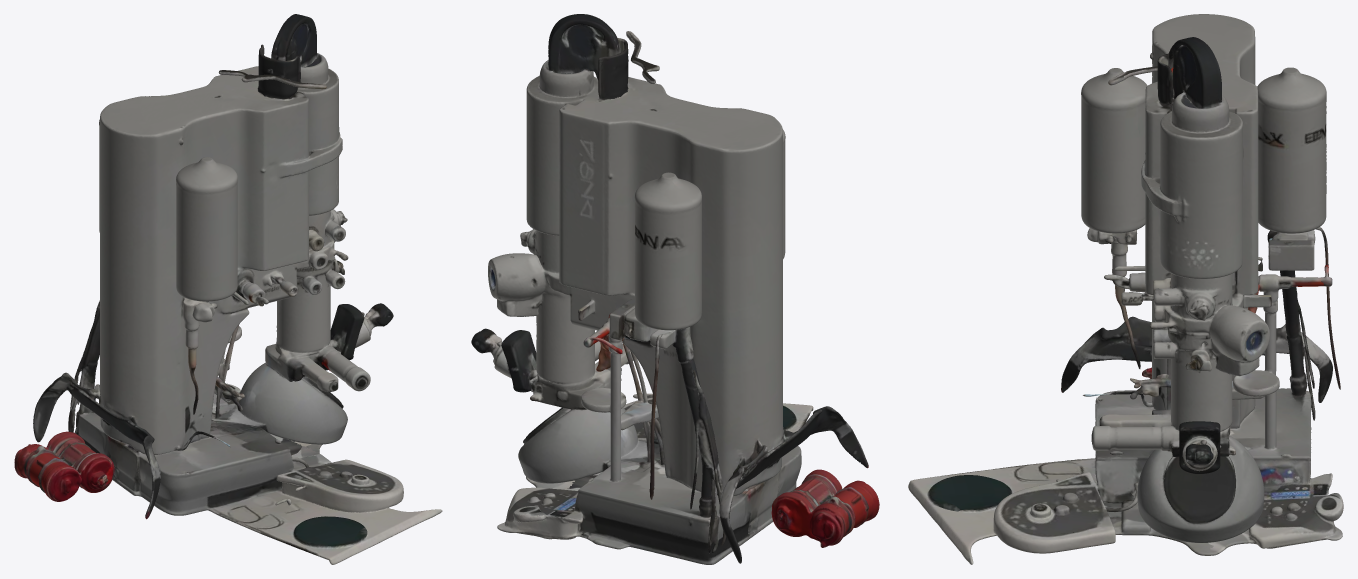
File: MICROSCOPIO_TEM.glb
The picture shows the model from 3 angles, left to right: view 1: azimuth 30°, elevation 25°; view 2: azimuth 150°, elevation 25°; view 3: azimuth 270°, elevation 25°; orthographic projection. The views are drawn at different scales.
Visible parts, largest first — view 1: tripo_node_48eb4489-7b0e-42ce-9b83-937978904d3f; view 2: tripo_node_48eb4489-7b0e-42ce-9b83-937978904d3f; view 3: tripo_node_48eb4489-7b0e-42ce-9b83-937978904d3f.
Part boxes in pixels (x1,y1,x2,y2): tripo_node_48eb4489-7b0e-42ce-9b83-937978904d3f: (14,14,442,564); tripo_node_48eb4489-7b0e-42ce-9b83-937978904d3f: (471,14,879,564); tripo_node_48eb4489-7b0e-42ce-9b83-937978904d3f: (908,14,1343,564).
Size of the model in its own units: 0.8619 by 1 by 0.7932.
1 material, 1 textured.
